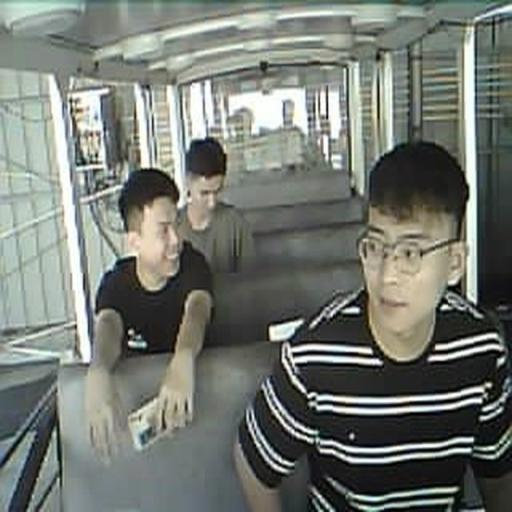persona: (231, 139, 511, 511), (84, 167, 216, 466), (175, 136, 254, 274)
